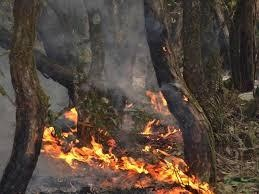fire: (36, 98, 186, 186)
